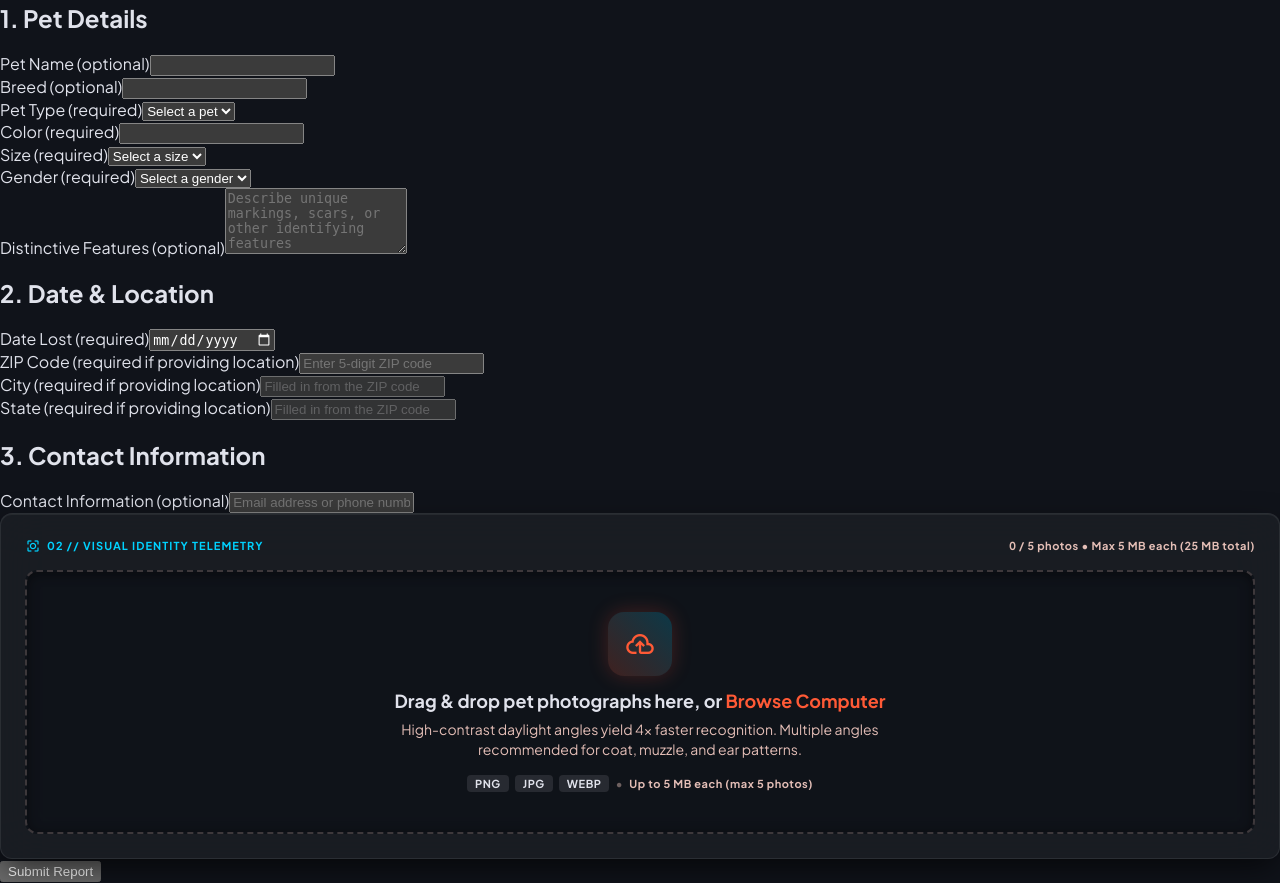
Test: ReportForm › prevents submission when location is incomplete
The width and height of the screenshot is (1280, 883).
Select "Dog" in the dropdown labelled "Pet Type (required)" at point(189, 111), box 142,102 -> 235,121
Type "Brown" into the field labelled "Color (required)".
click(212, 133); type("Brown")  # box 119,123 -> 304,144
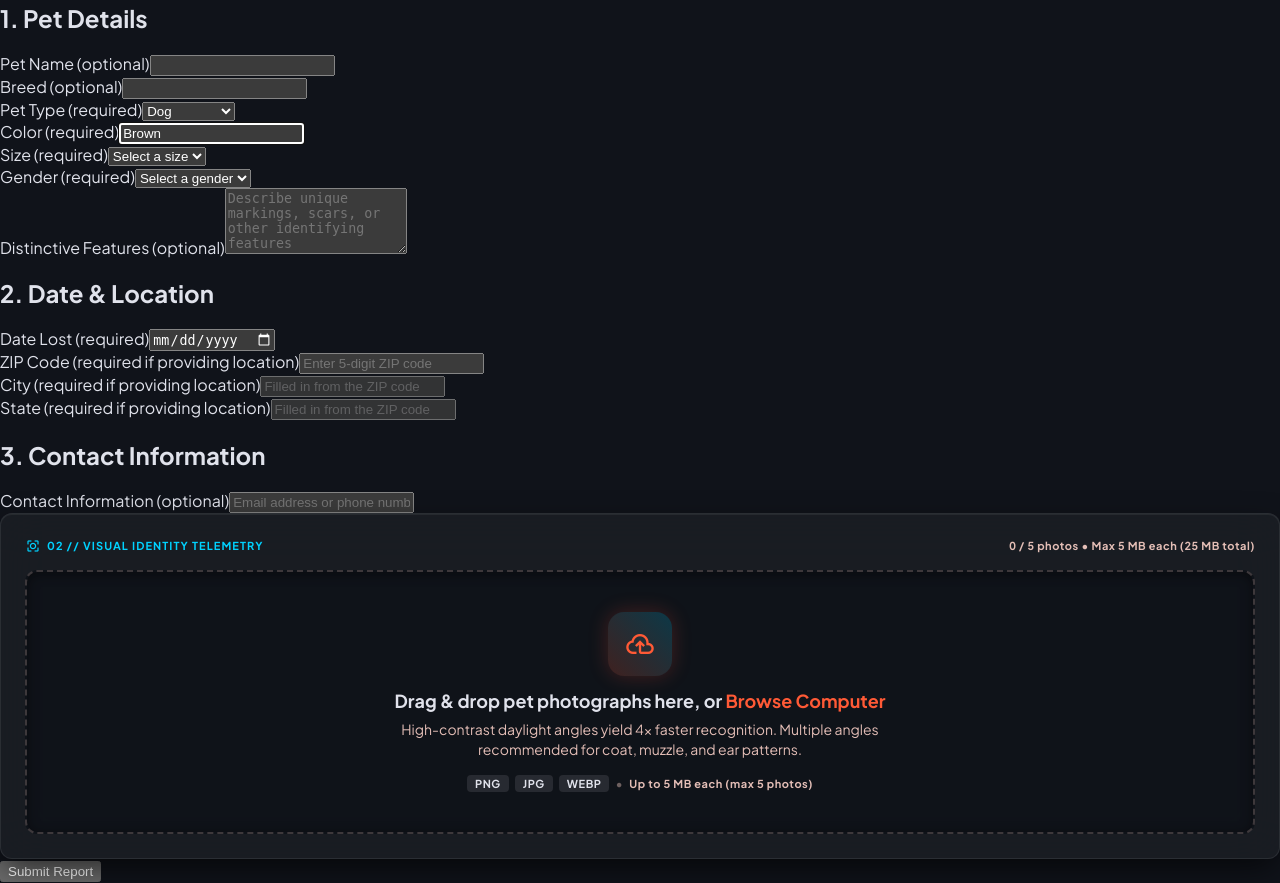
Select "Small" in the dropdown labelled "Size (required)" at point(157, 156), box 108,147 -> 206,166
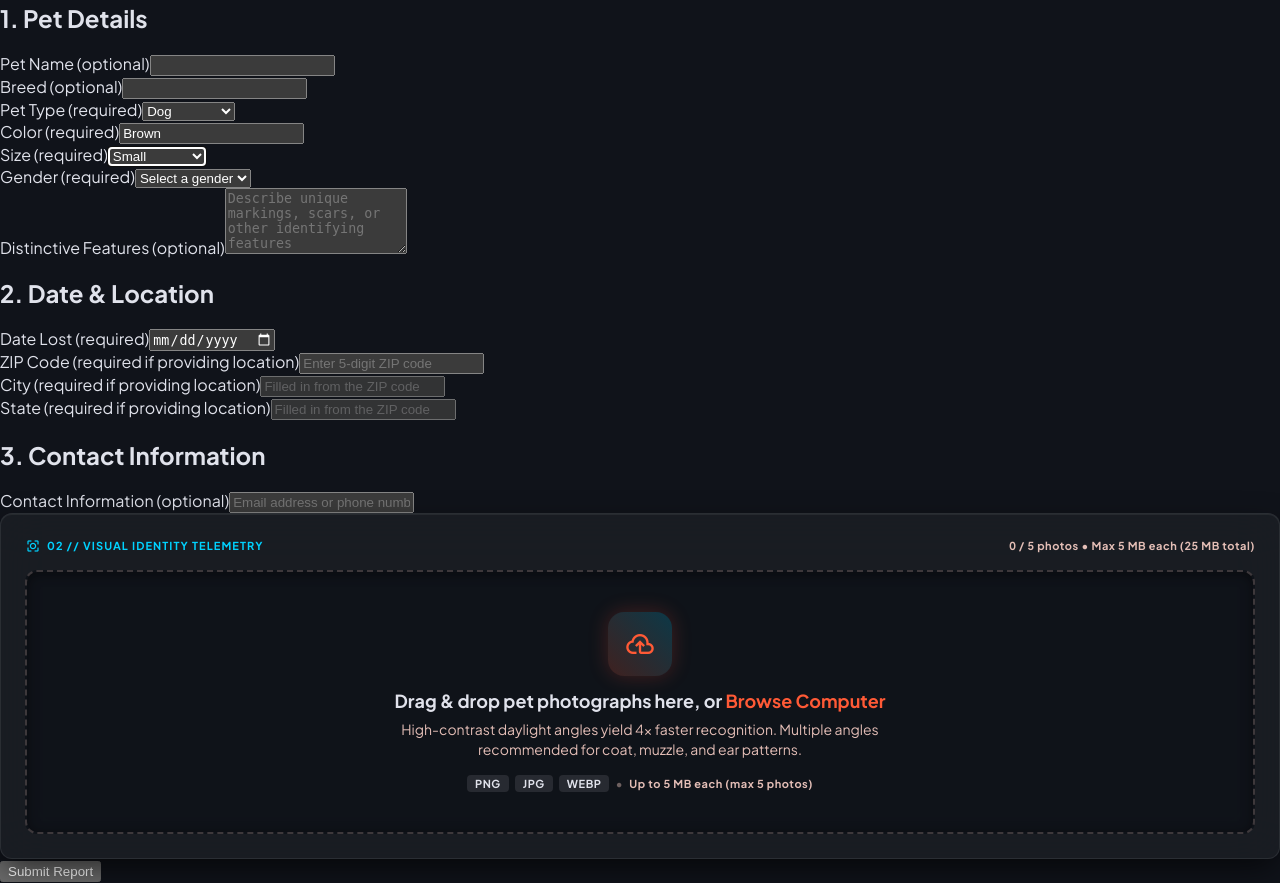
Select "Male" in the dropdown labelled "Gender (required)" at point(193, 178), box 135,169 -> 251,188
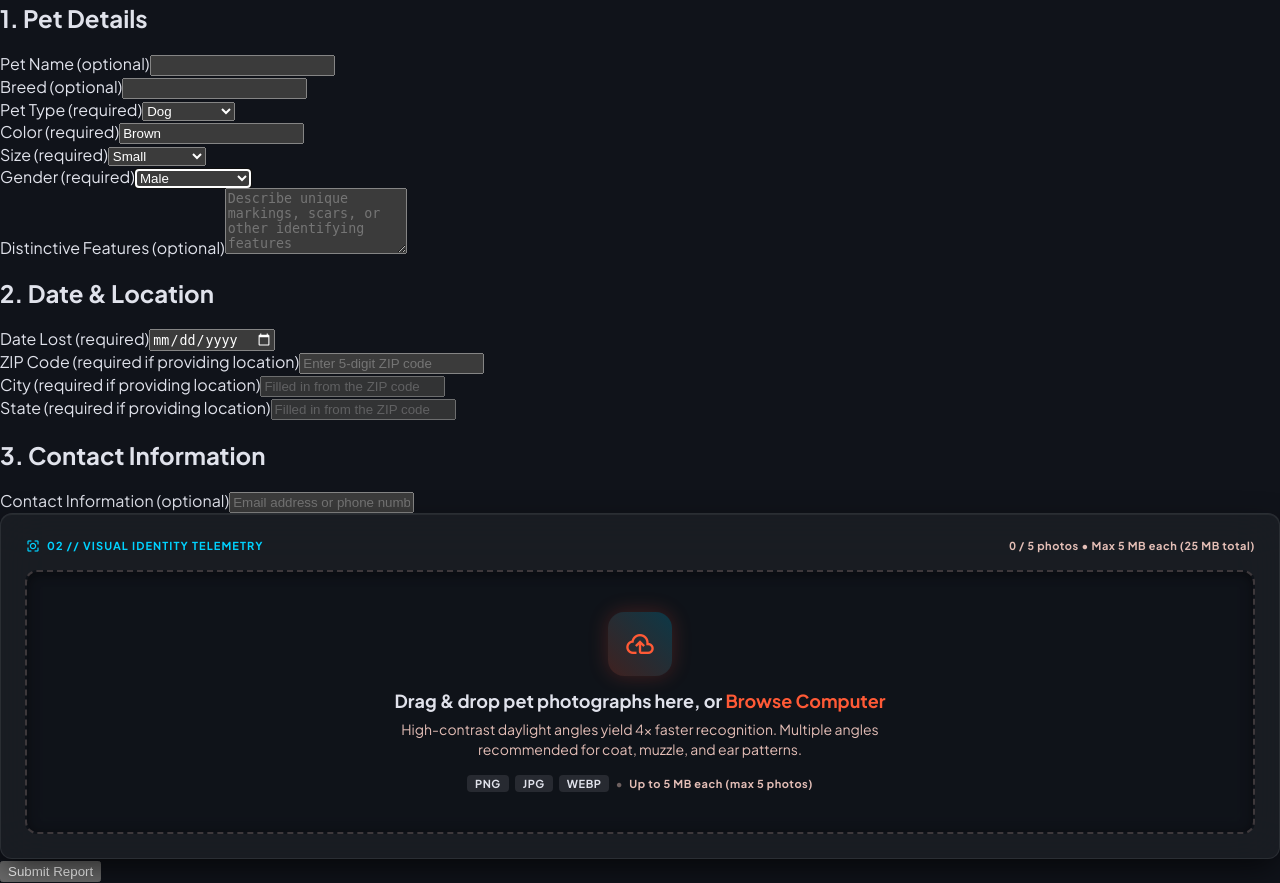
Type "2026-10-20" into the date field labelled "Date Lost (required)".
click(212, 340); type("2026-10-20")  # box 149,330 -> 275,351
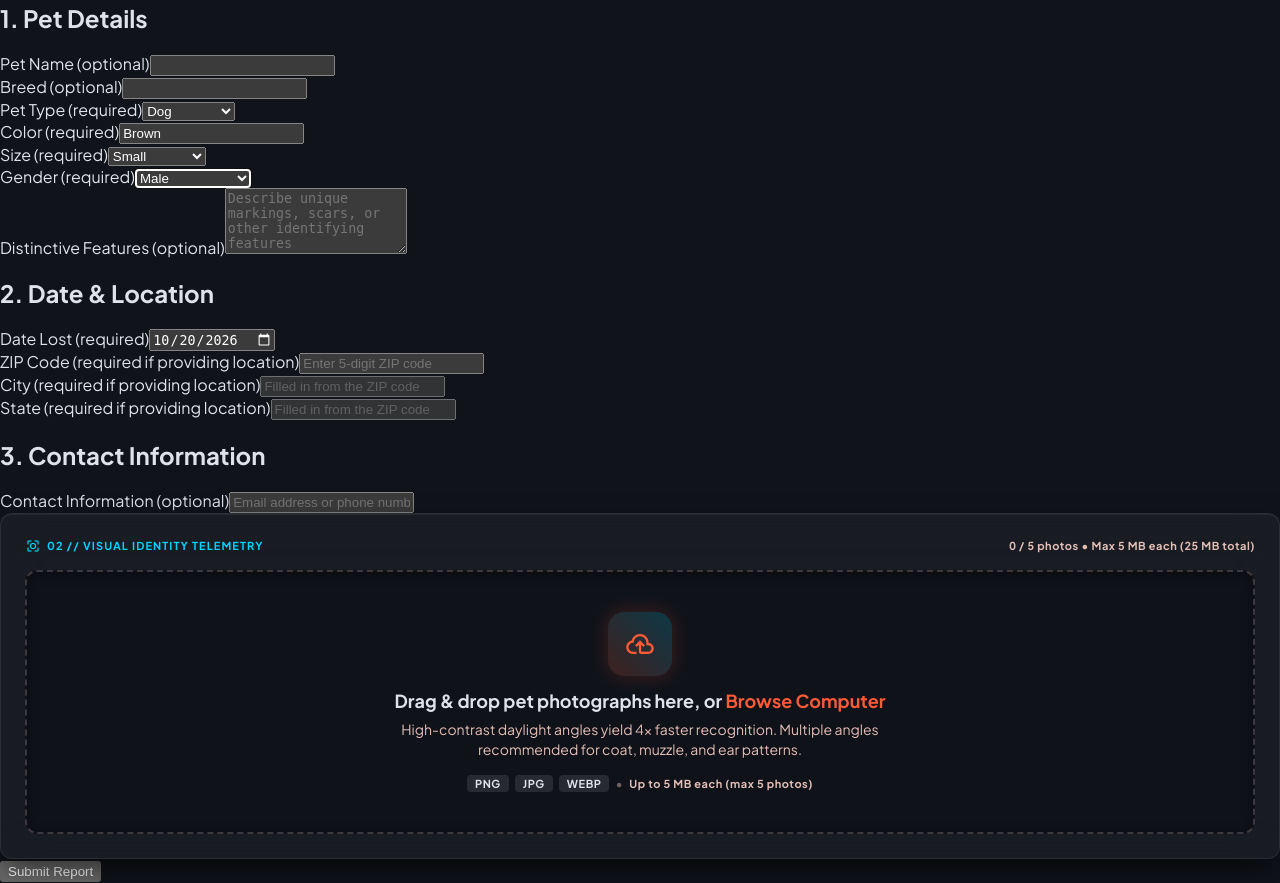
Type "23220" into the field labelled "ZIP Code (required if providing location)".
click(392, 363); type("23220")  # box 299,353 -> 484,374
(page scrolled)
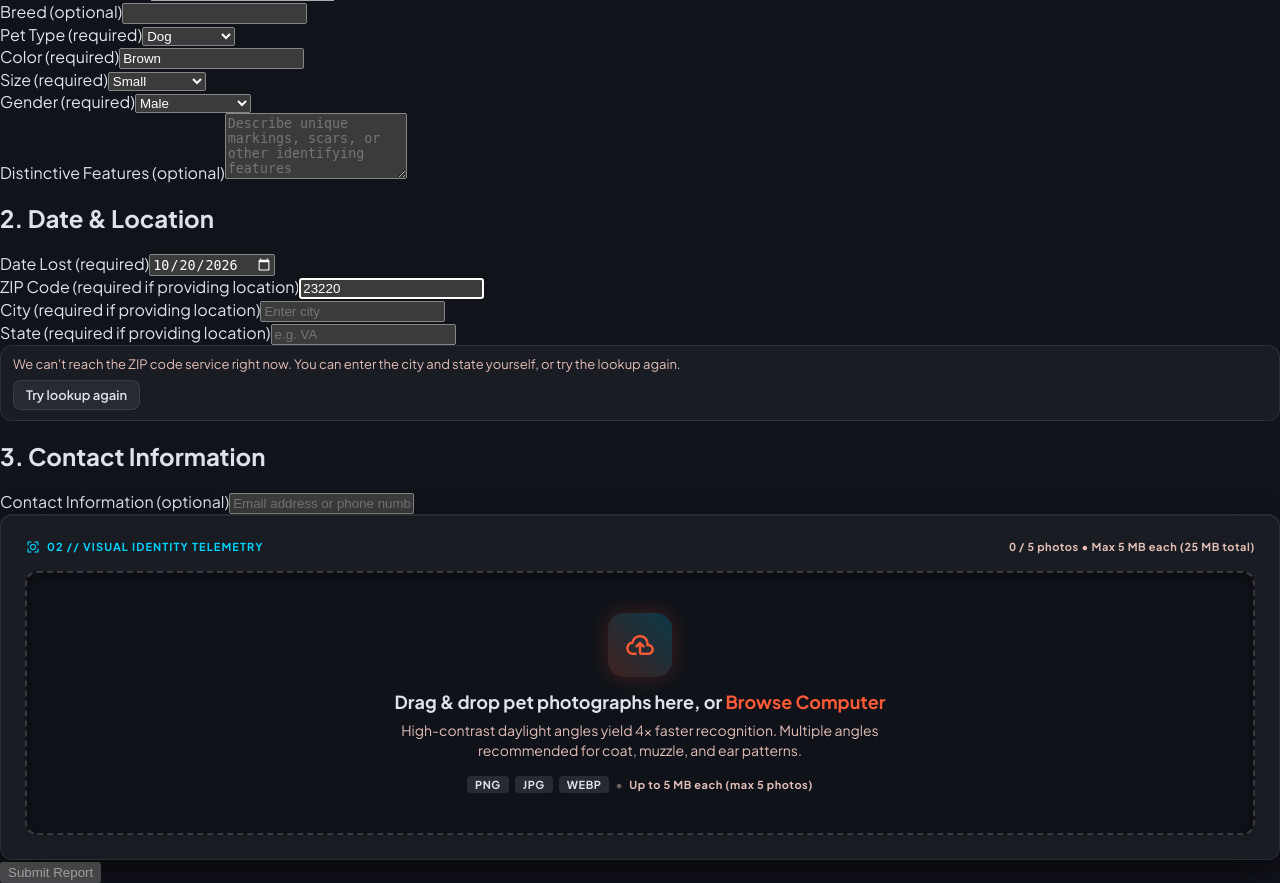
expect the text "We can't reach the ZIP code service right now" is shown: met, box 13,356 -> 681,372
Click the button "Submit Report".
click(51, 873)  # box 0,862 -> 101,882
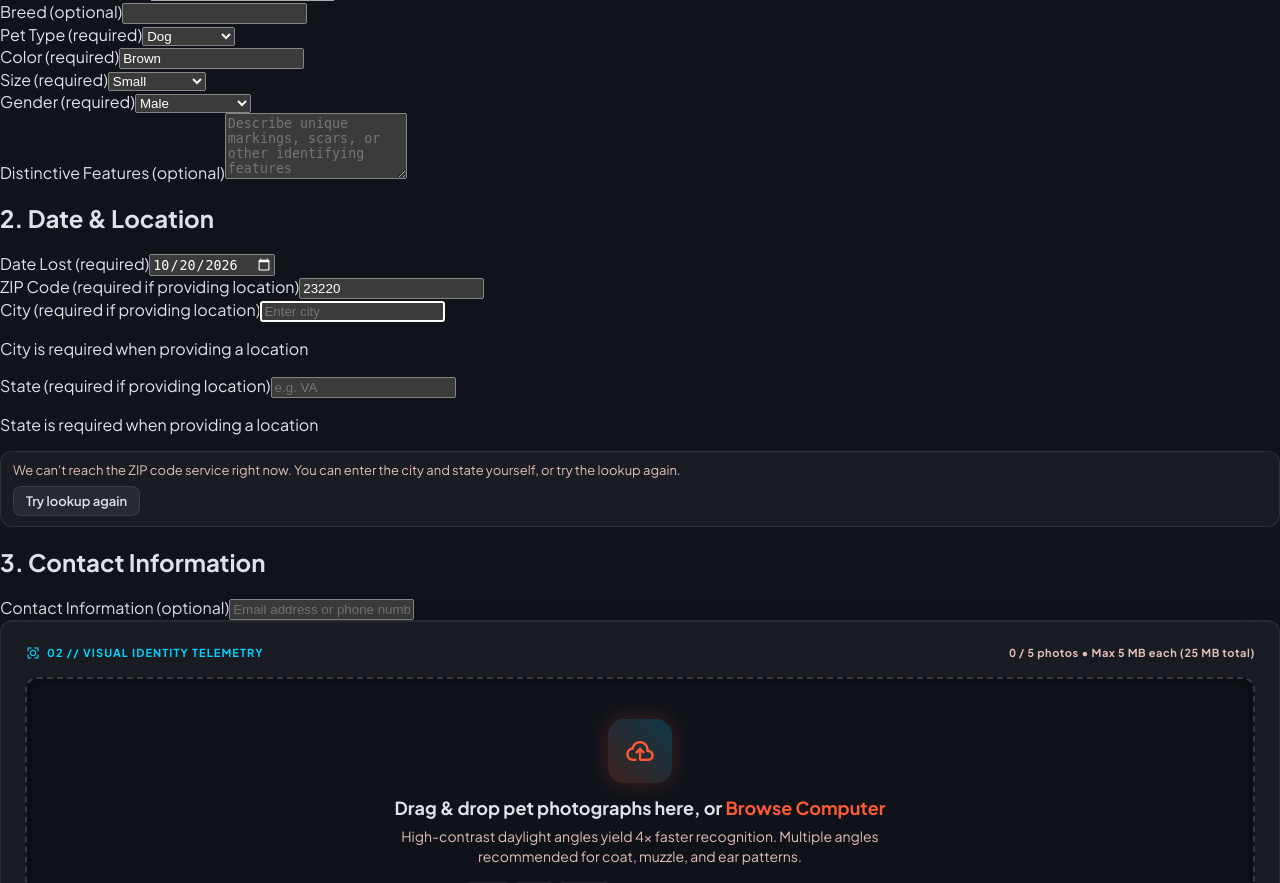
expect the text "City is required when providing a location" is shown: met, box 0,338 -> 308,359
expect the text "State is required when providing a location" is shown: met, box 0,414 -> 318,435
